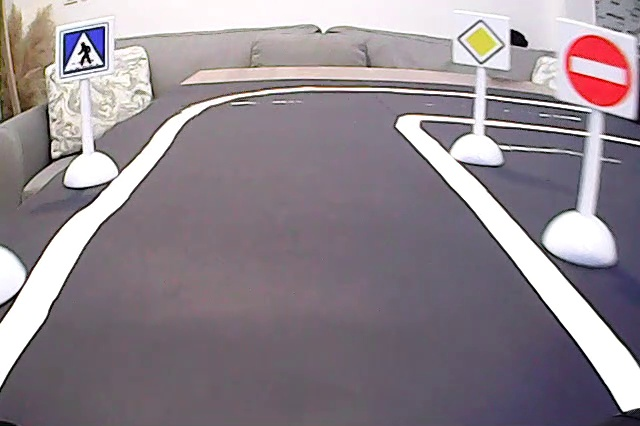do not enter: (557, 23, 636, 112)
pedestrian crossing: (58, 26, 111, 74)
